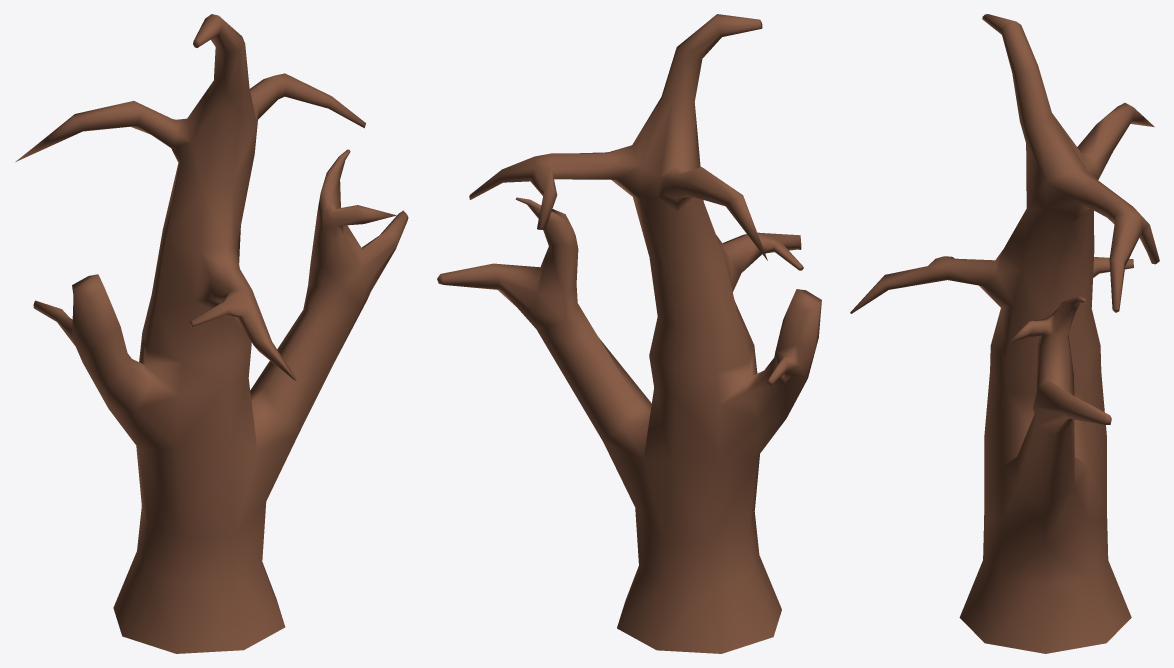
The model's file is Arvore_7.fbx.
3 views of the same model, side by side, from view 1: azimuth 30°, elevation 25°; view 2: azimuth 150°, elevation 25°; view 3: azimuth 270°, elevation 25° (orthographic). The views are drawn at different scales.
Parts seen in each view (by area): view 1: Arvore_7; view 2: Arvore_7; view 3: Arvore_7.
Boxes of the visible parts, <box> form: Arvore_7: <box>15,14,408,653</box>; Arvore_7: <box>437,14,821,653</box>; Arvore_7: <box>850,14,1159,653</box>.
Bounding box in the file's own units: 5.01 × 6.63 × 10.61.
